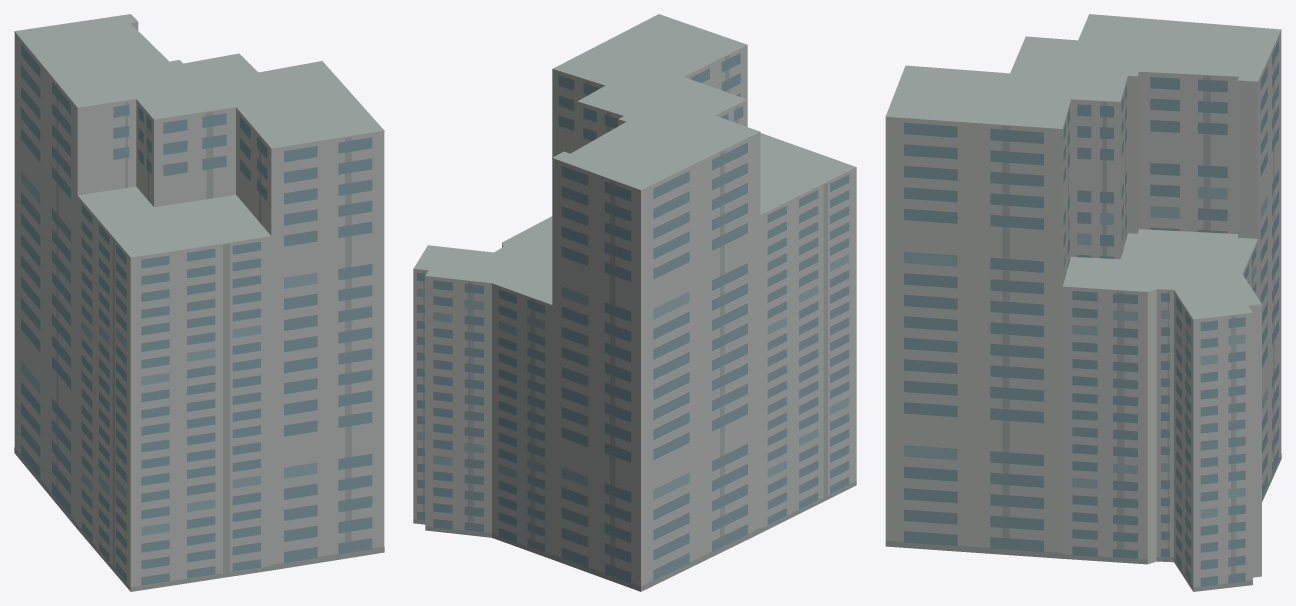
The model's file is residential-dc4b04f1-d37b-4cfc-b9d2-df9b2bacfd4a.glb.
The picture shows the model from 3 angles, left to right: view 1: azimuth 30°, elevation 25°; view 2: azimuth 150°, elevation 25°; view 3: azimuth 270°, elevation 25°; orthographic projection. The views are drawn at different scales.
Visible parts, largest first — view 1: residential-dc4b04f1-d37b-4cfc-b9d2-df9b2bacfd4a.tmp; view 2: residential-dc4b04f1-d37b-4cfc-b9d2-df9b2bacfd4a.tmp; view 3: residential-dc4b04f1-d37b-4cfc-b9d2-df9b2bacfd4a.tmp.
Part boxes in pixels (bbox=[...]): residential-dc4b04f1-d37b-4cfc-b9d2-df9b2bacfd4a.tmp: bbox=[14, 14, 384, 591]; residential-dc4b04f1-d37b-4cfc-b9d2-df9b2bacfd4a.tmp: bbox=[413, 14, 856, 591]; residential-dc4b04f1-d37b-4cfc-b9d2-df9b2bacfd4a.tmp: bbox=[885, 14, 1281, 591].
Bounding box in the file's own units: 61.52 × 77 × 64.31.
